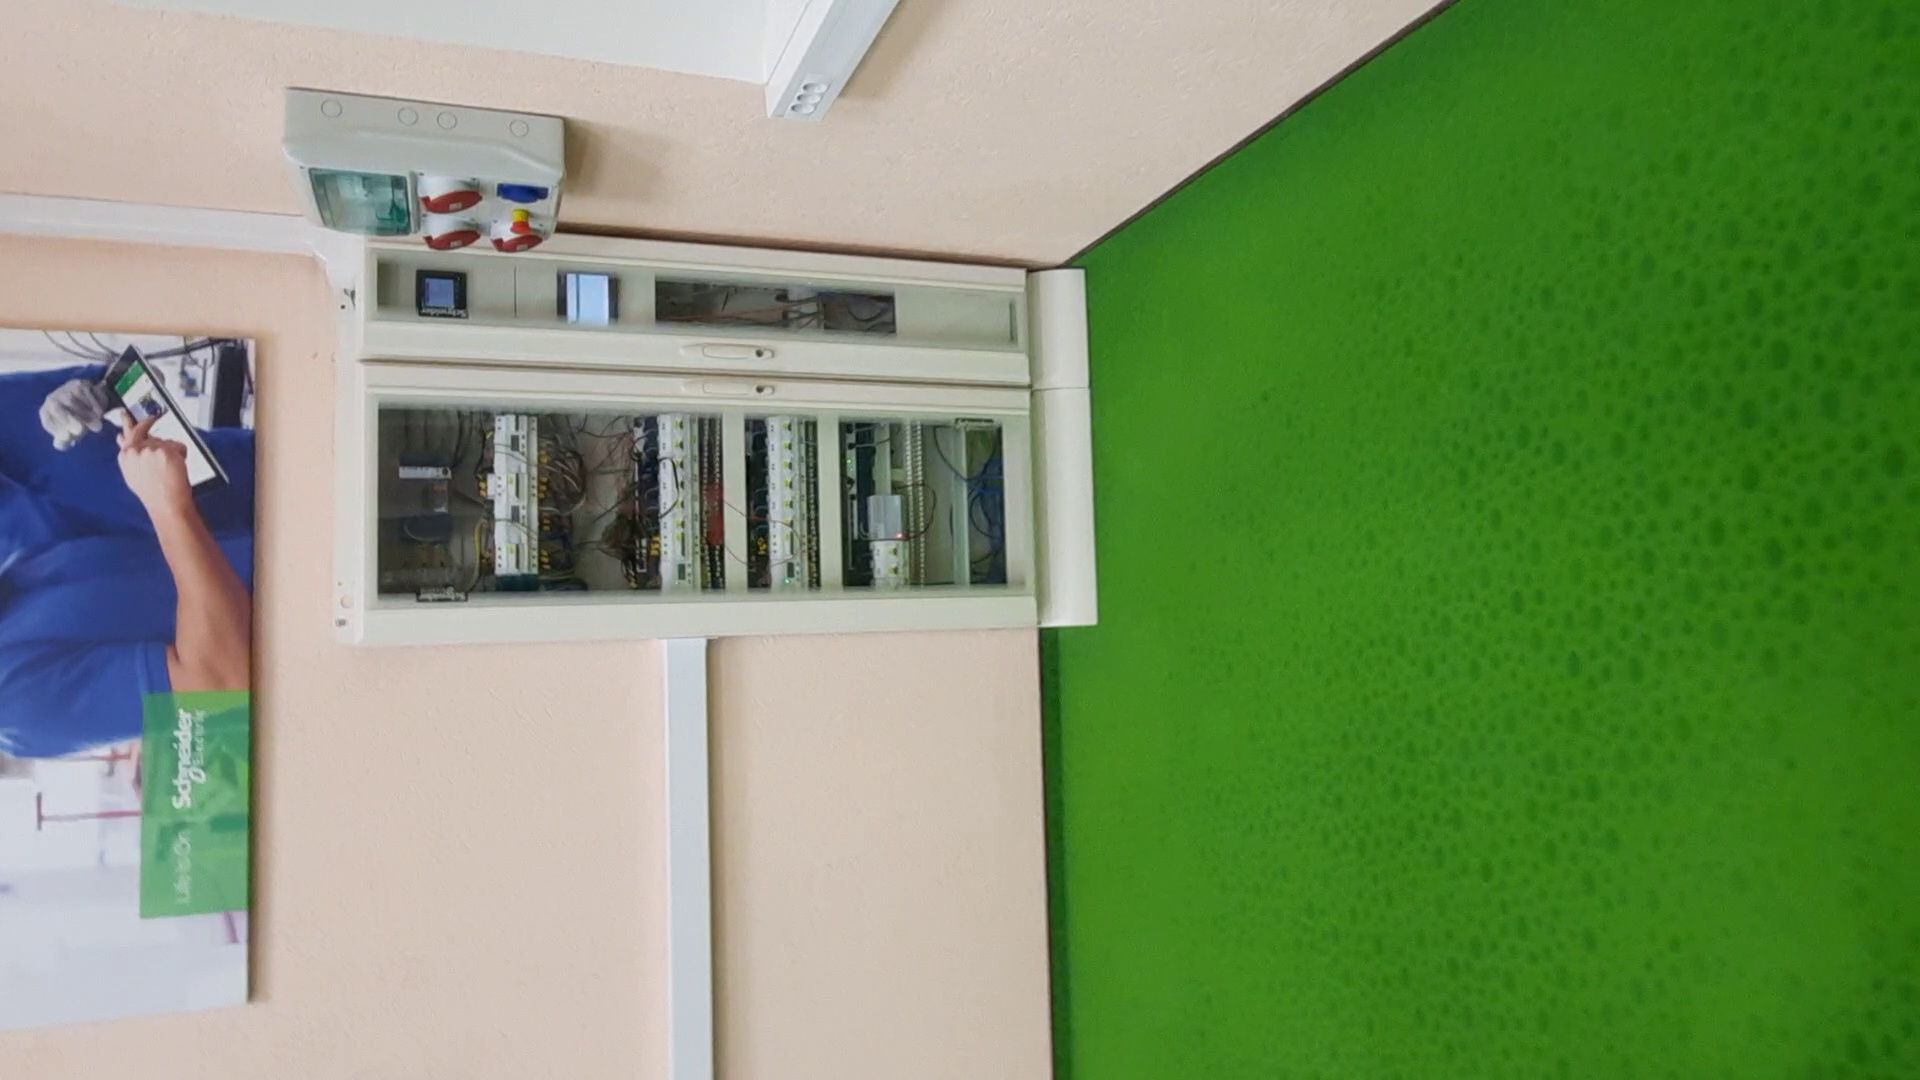stand1: (339, 237, 1095, 641)
